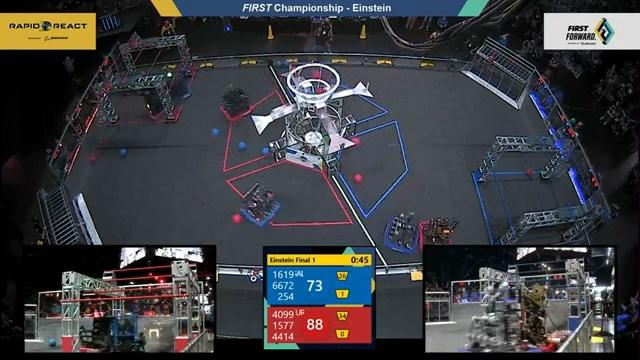robot: (453, 284, 538, 352), (519, 283, 556, 353), (237, 181, 283, 228), (376, 209, 421, 255), (419, 207, 459, 258), (213, 78, 257, 124), (77, 316, 108, 352)
